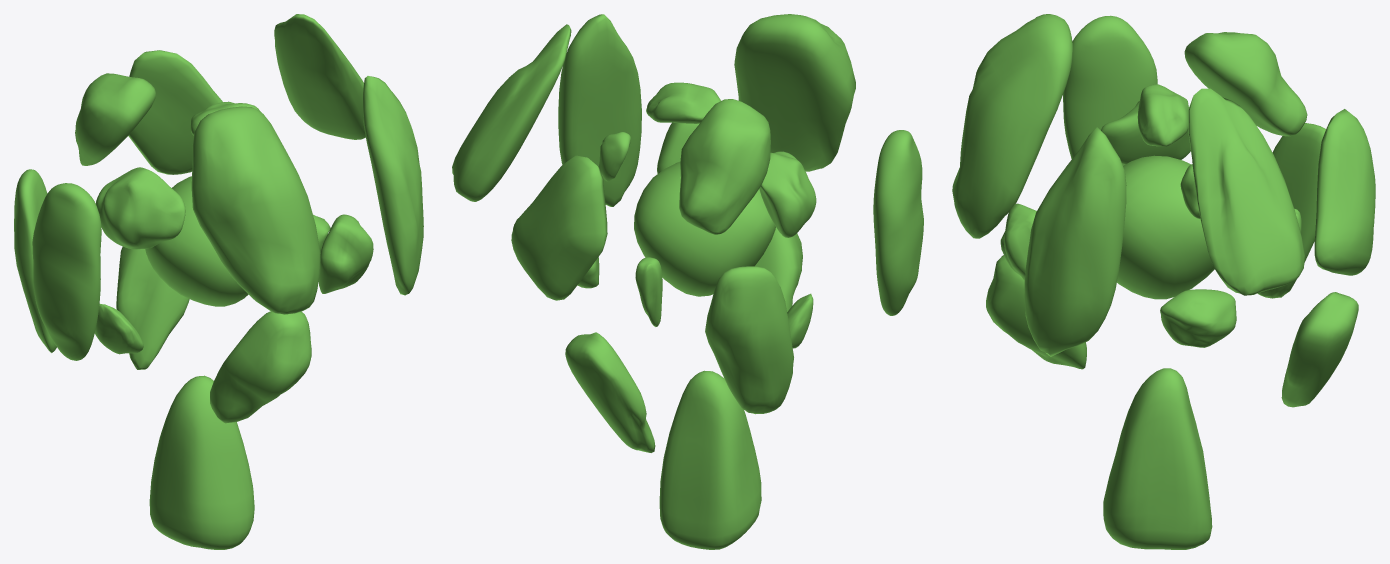
Rendered from arbre.fbx.
The picture shows the model from 3 angles, left to right: view 1: azimuth 30°, elevation 25°; view 2: azimuth 150°, elevation 25°; view 3: azimuth 270°, elevation 25°; orthographic projection. The views are drawn at different scales.
Visible parts, largest first — view 1: stone74; view 2: stone74; view 3: stone74.
Boxes of the visible parts, box(x1,y1,x2,y2) form: stone74: box(14, 14, 423, 549); stone74: box(452, 14, 923, 549); stone74: box(952, 14, 1375, 549).
Size of the model in its own units: 6.1 by 7.21 by 5.37.
